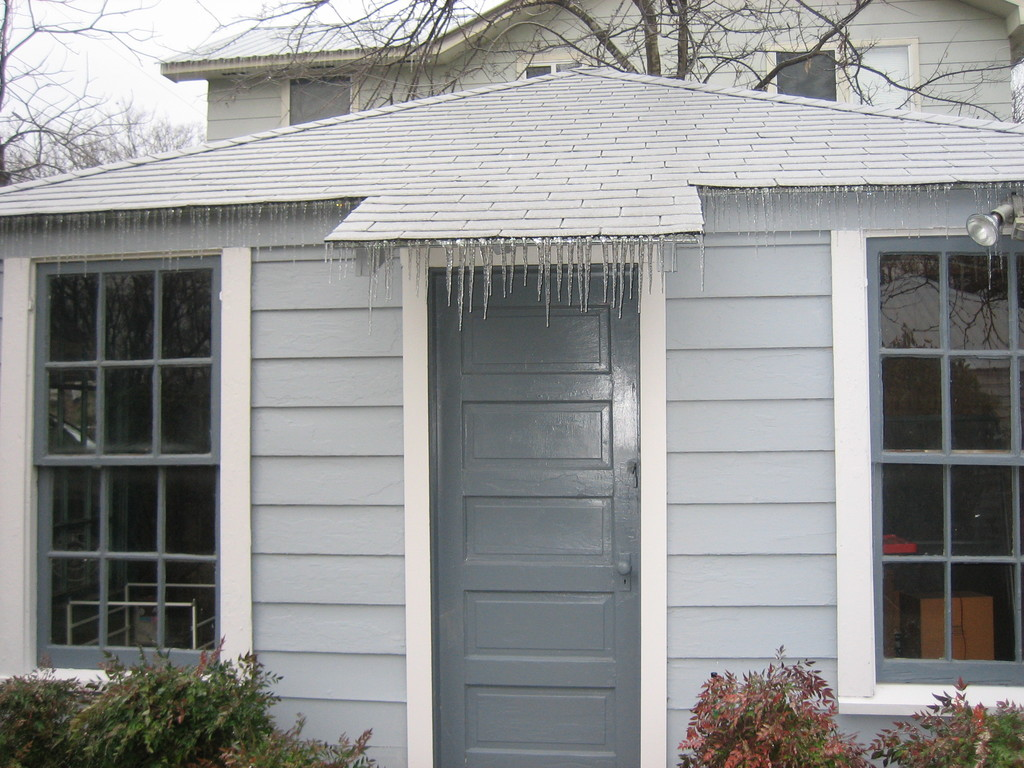Tree: (156, 0, 1022, 125), (0, 0, 170, 184)
